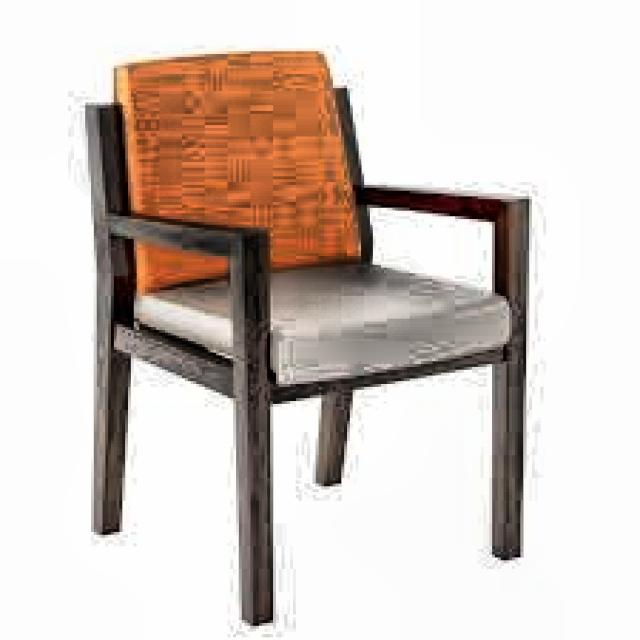cadeira: (75, 44, 533, 626)
